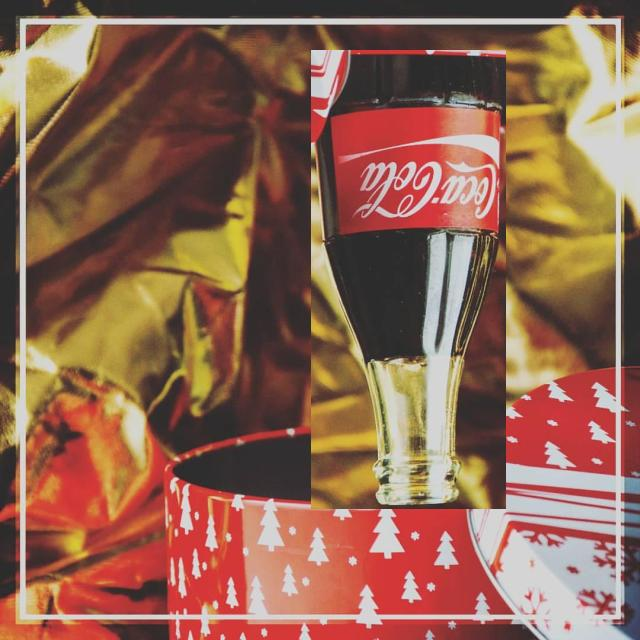coca-cola: (311, 50, 506, 509)
